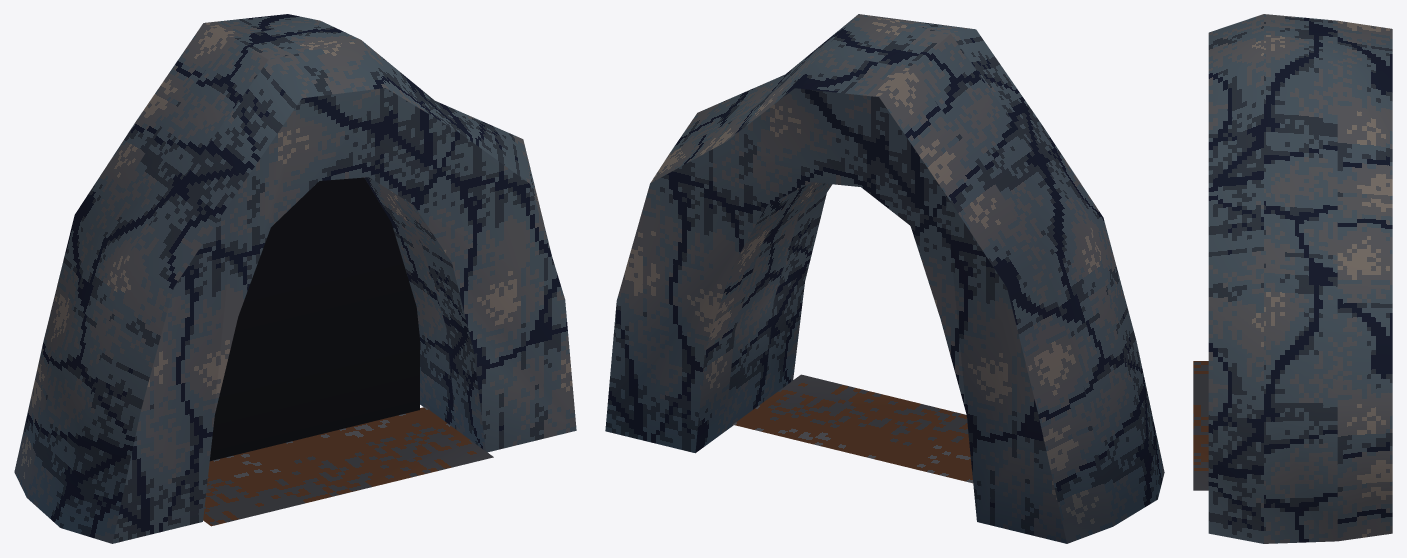
The model's file is cave.mouth.glb.
3 renders of one model, left to right at view 1: azimuth 30°, elevation 25°; view 2: azimuth 150°, elevation 25°; view 3: azimuth 270°, elevation 25°, orthographic. The views are drawn at different scales.
Parts seen in each view (by area): view 1: kit_arch, kit_card_void, kit_shell_threshold; view 2: kit_arch, kit_shell_threshold; view 3: kit_arch, kit_shell_threshold.
Boxes of the visible parts, x1,y1,x2,y2 form: kit_arch: (14,14,576,543); kit_card_void: (209,177,419,461); kit_shell_threshold: (203,407,493,526); kit_arch: (605,14,1164,543); kit_shell_threshold: (733,374,973,483); kit_arch: (1208,14,1392,543); kit_shell_threshold: (1193,361,1208,490).
Size of the model in its own units: 7.2 by 5.64 by 2.6.
3 materials, 3 textured.
